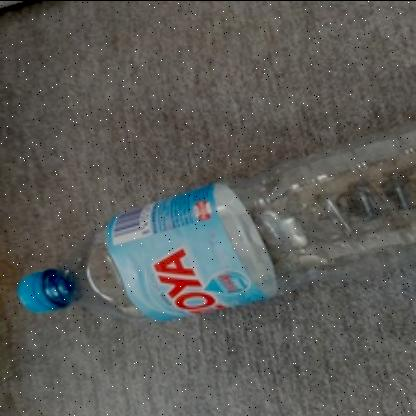Plastic Bottle: (12, 116, 416, 324)
